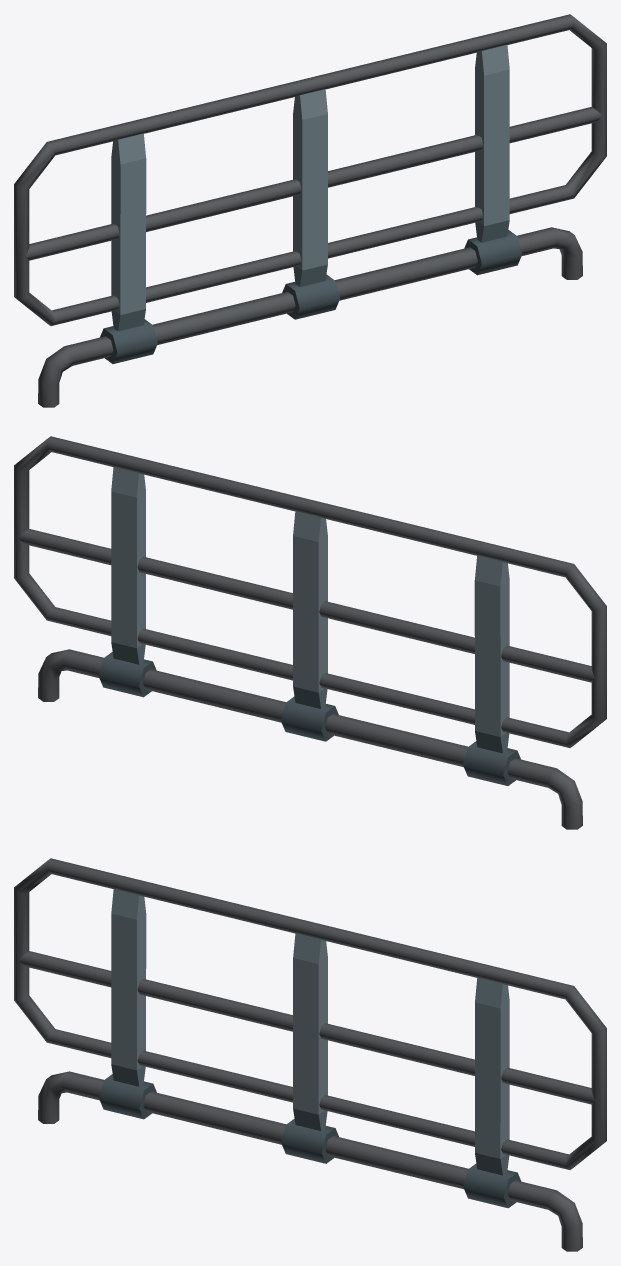
The model's file is Fence_type_C_002.fbx.
The picture shows the model from 3 angles, top to bottom: view 1: azimuth 30°, elevation 25°; view 2: azimuth 150°, elevation 25°; view 3: azimuth 330°, elevation 25°; orthographic projection.
Parts seen in each view (by area): view 1: Fence_type_C_002; view 2: Fence_type_C_002; view 3: Fence_type_C_002.
Part boxes in pixels (<box>): Fence_type_C_002: <box>14,14,606,407</box>; Fence_type_C_002: <box>14,436,606,829</box>; Fence_type_C_002: <box>14,858,606,1251</box>.
Size of the model in its own units: 337 by 18.39 by 142.
